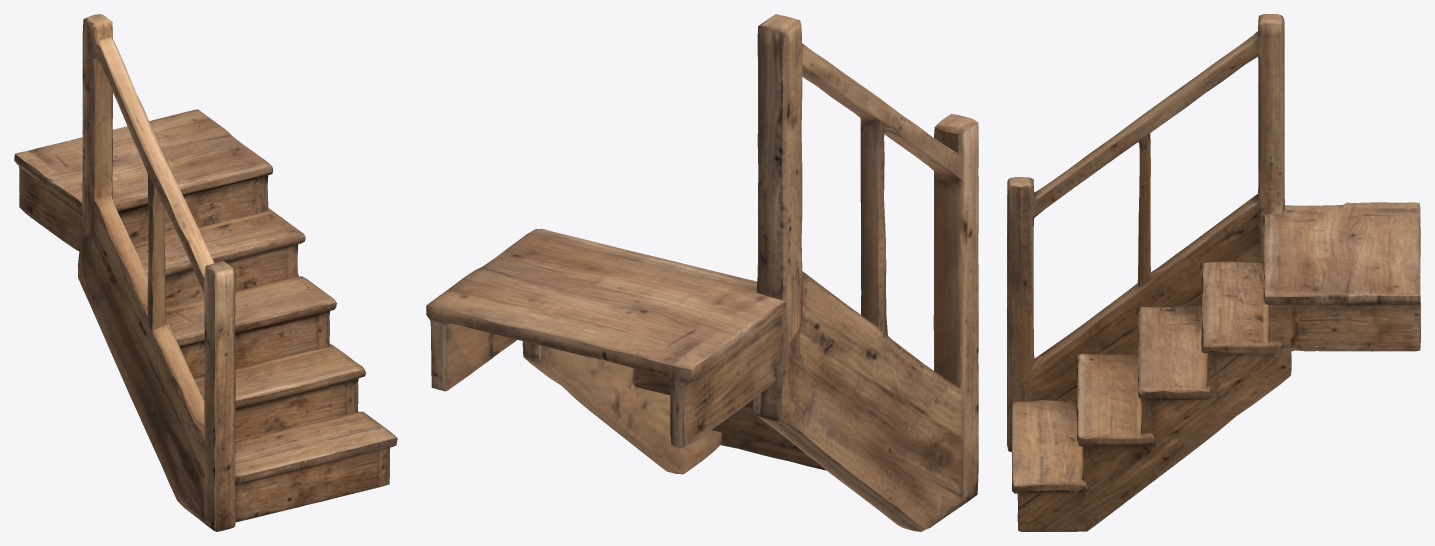
File: anomaly_stairs.glb
The picture shows the model from 3 angles, left to right: view 1: azimuth 30°, elevation 25°; view 2: azimuth 150°, elevation 25°; view 3: azimuth 270°, elevation 25°; orthographic projection. The views are drawn at different scales.
Parts seen in each view (by area): view 1: geometry_0; view 2: geometry_0; view 3: geometry_0.
Part boxes in pixels (left/top/right/bottom): geometry_0: left=14, top=14, right=397, bottom=531; geometry_0: left=426, top=14, right=978, bottom=531; geometry_0: left=1007, top=14, right=1420, bottom=531.
Size of the model in its own units: 1.2 by 2.56 by 2.23.
1 material, 1 textured.
